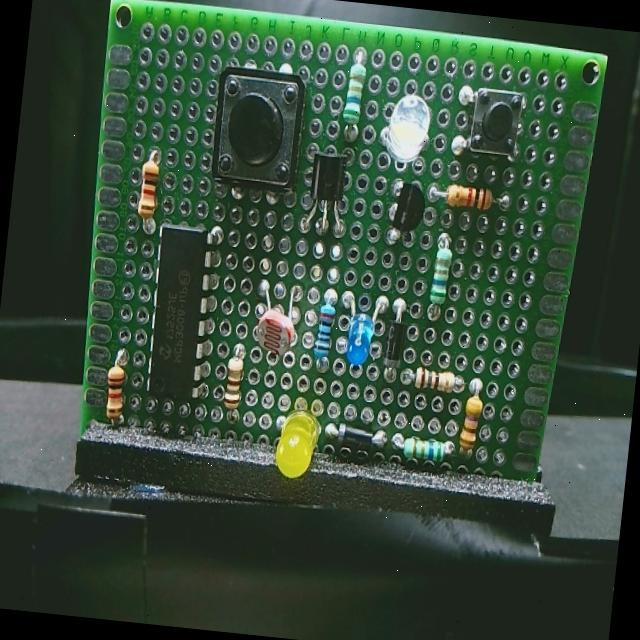IC: (141, 214, 226, 414)
cds: (251, 272, 300, 370)
diode: (377, 290, 412, 384), (329, 418, 386, 458)
led: (252, 400, 326, 485), (376, 91, 436, 166), (341, 286, 383, 356)
resistor: (302, 280, 348, 376), (426, 171, 504, 222), (214, 342, 254, 430), (424, 234, 462, 323), (98, 352, 136, 433), (129, 153, 165, 234), (338, 56, 372, 138), (396, 425, 452, 471), (456, 376, 488, 456), (403, 358, 464, 393)
switch: (200, 63, 313, 199), (458, 72, 530, 170)
transistor: (298, 144, 355, 236), (383, 172, 427, 246)
